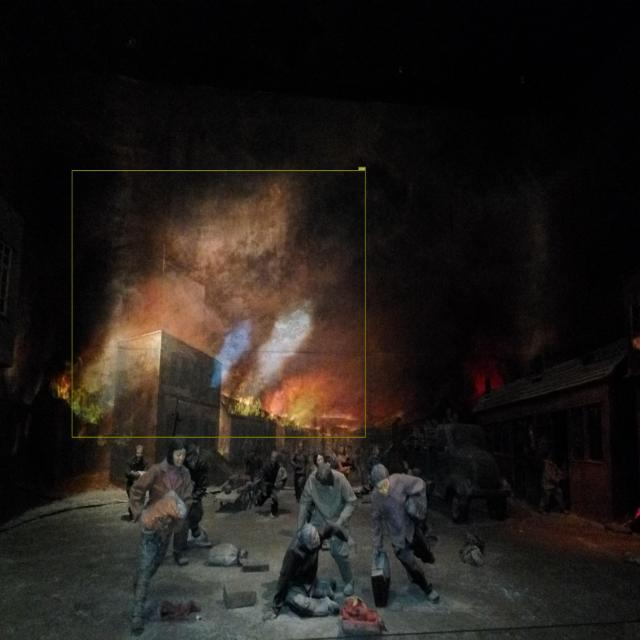smoke: (72, 170, 366, 437)
